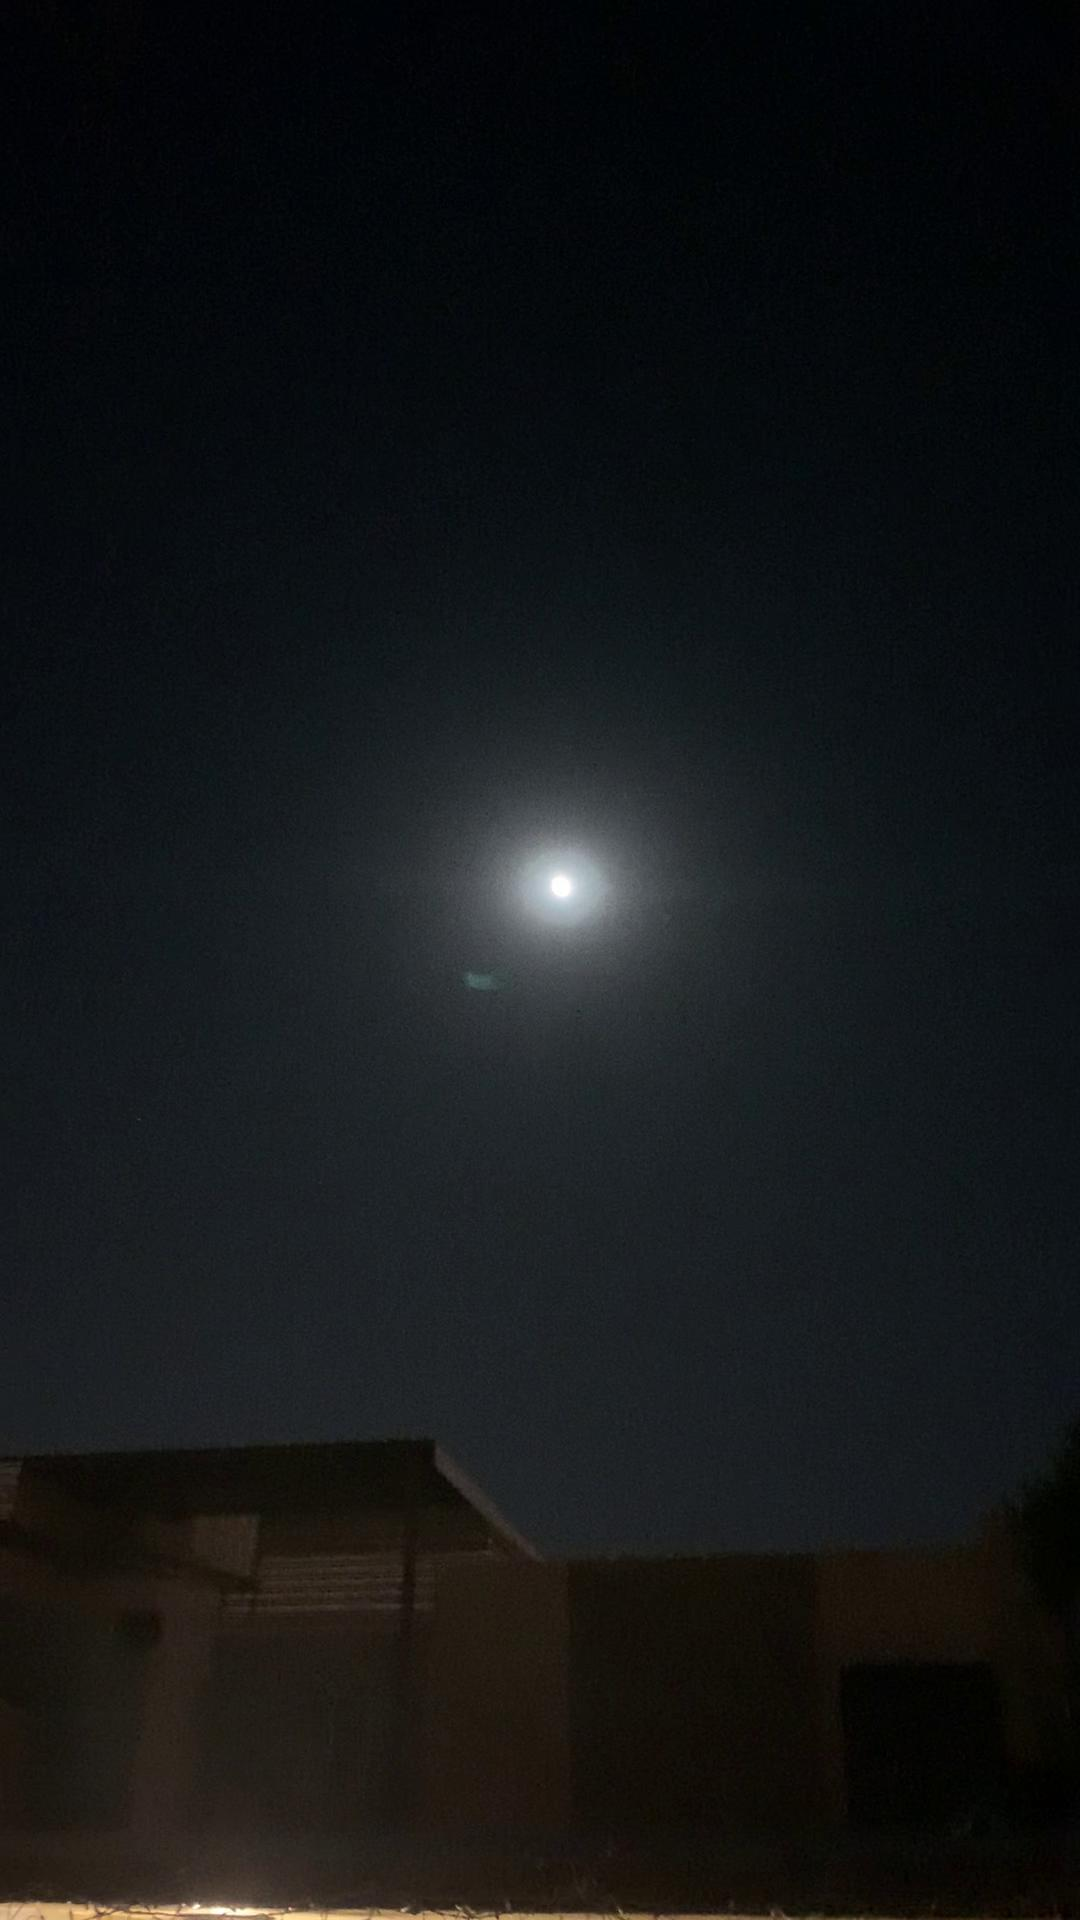moon: (512, 839, 613, 928)
